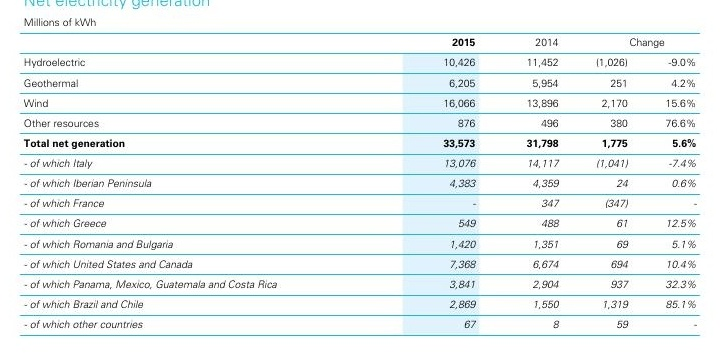table: (0, 0, 724, 353)
